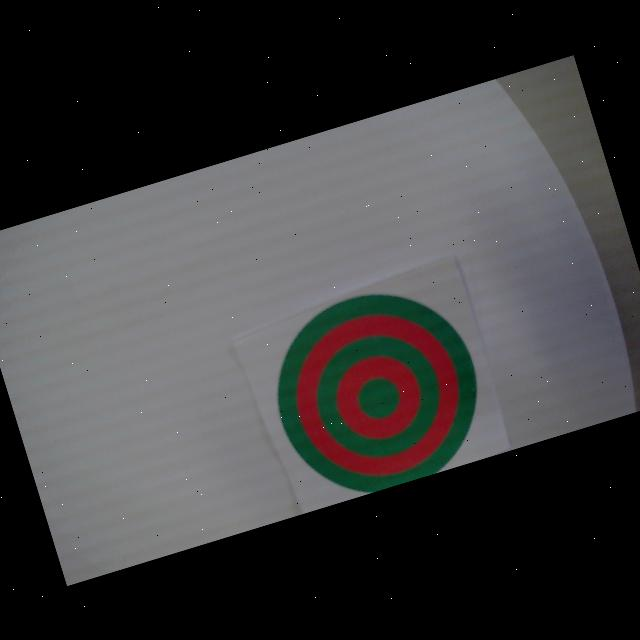COGNITIVE: (252, 269, 500, 512)
